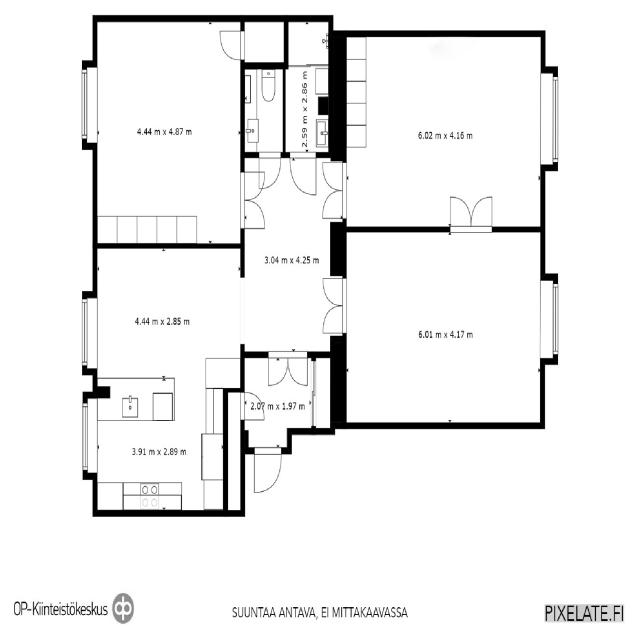door: (264, 348, 313, 392), (444, 192, 496, 231), (318, 274, 348, 337), (240, 166, 267, 234), (320, 161, 348, 224), (252, 445, 284, 497), (288, 150, 318, 199), (214, 24, 247, 66), (238, 388, 268, 427), (258, 149, 284, 189)
window: (540, 68, 562, 173), (78, 61, 99, 150), (78, 291, 98, 376), (234, 272, 251, 353), (546, 276, 561, 362), (80, 397, 92, 476)
zone: (342, 225, 548, 428), (342, 33, 548, 232), (94, 264, 232, 518), (92, 18, 244, 248), (90, 240, 250, 391), (242, 153, 342, 355), (284, 18, 332, 157), (242, 66, 285, 154), (241, 20, 287, 68)
